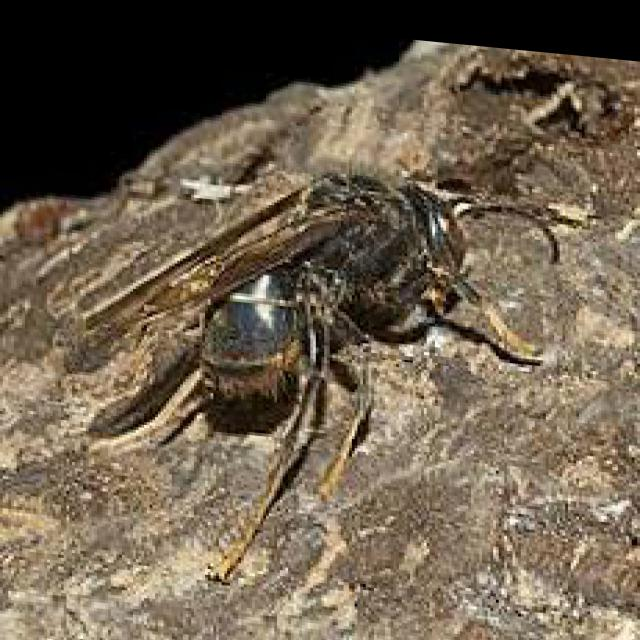Vespa Velutina: (67, 124, 564, 614)
